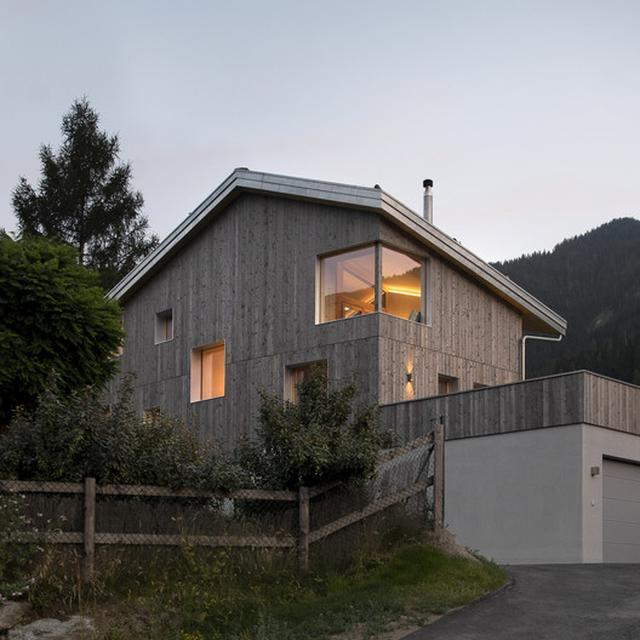building: (111, 167, 562, 492)
